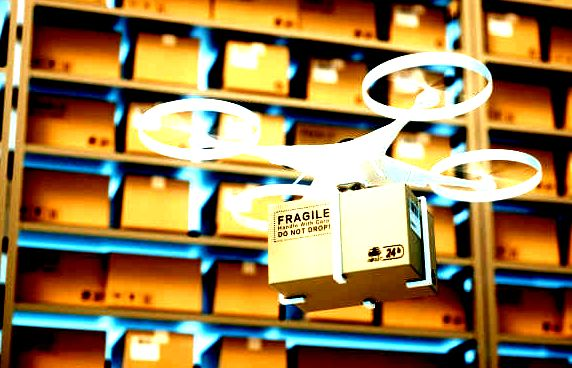Drone: (126, 48, 546, 227)
